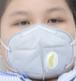with_mask: (1, 1, 76, 81)
